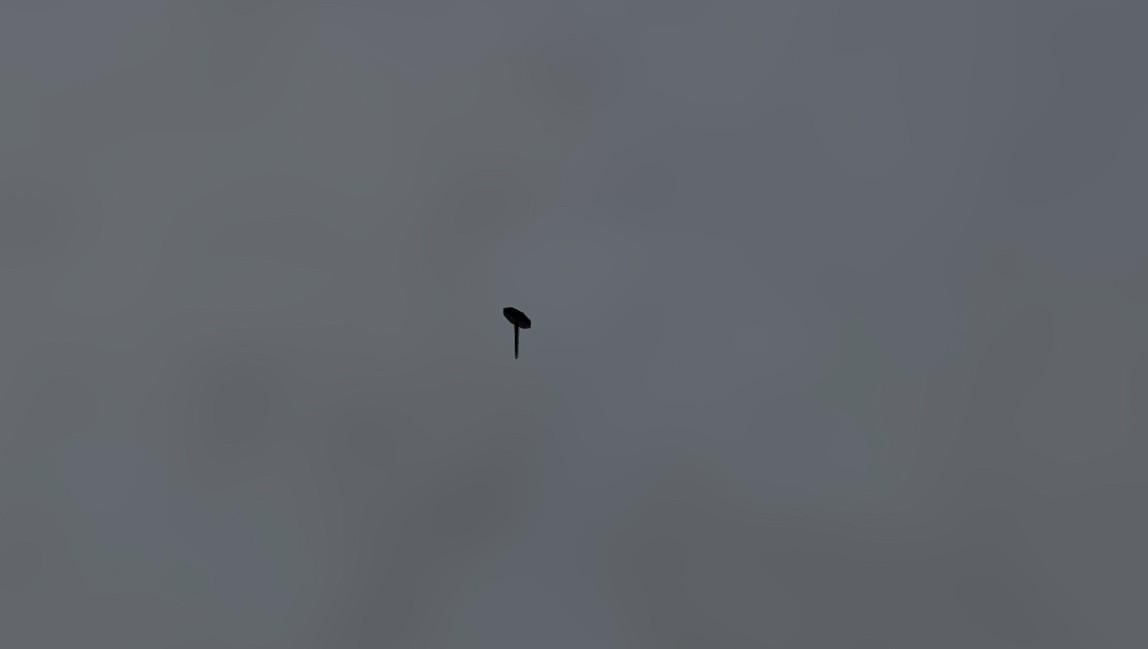Stop-Sign: (501, 304, 532, 359)
